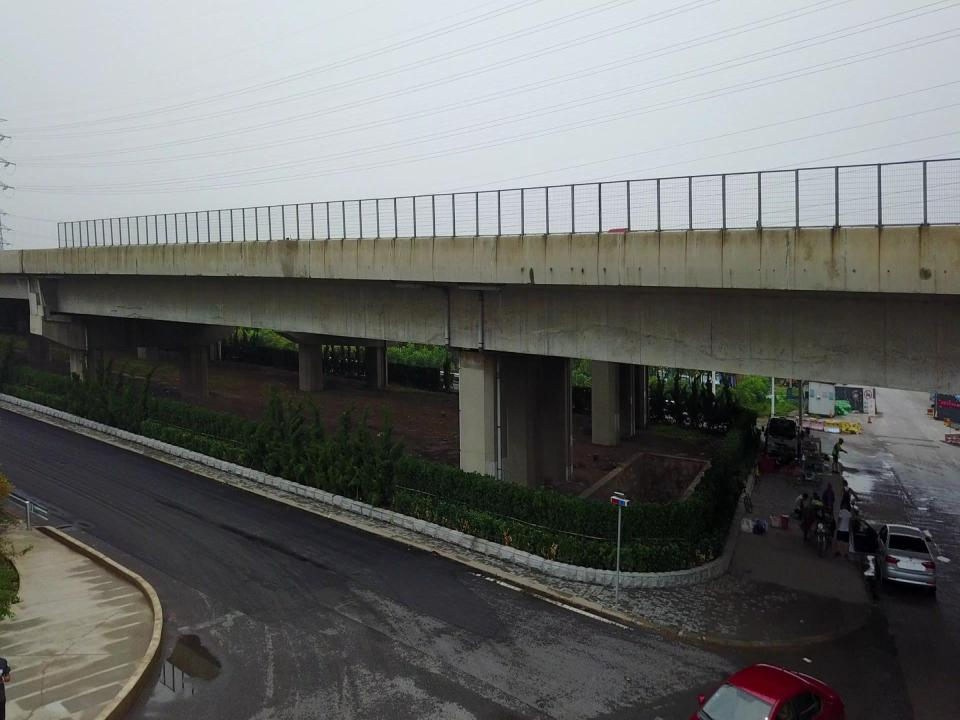car: (686, 664, 850, 720), (854, 513, 938, 603), (764, 412, 800, 456)
